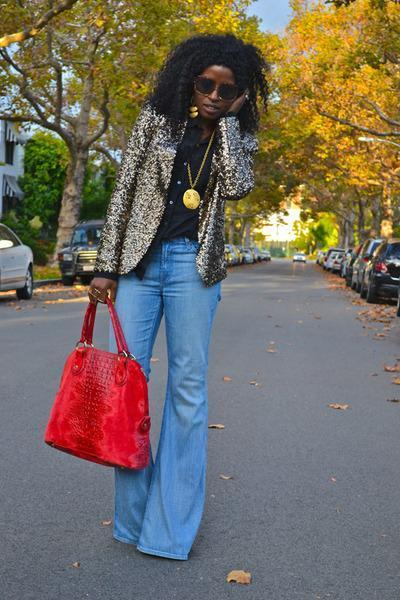bag: (45, 304, 149, 467)
jacket: (78, 108, 260, 289)
pants: (108, 238, 220, 558)
shirt: (146, 116, 231, 260)
sunglass: (214, 70, 244, 99)
